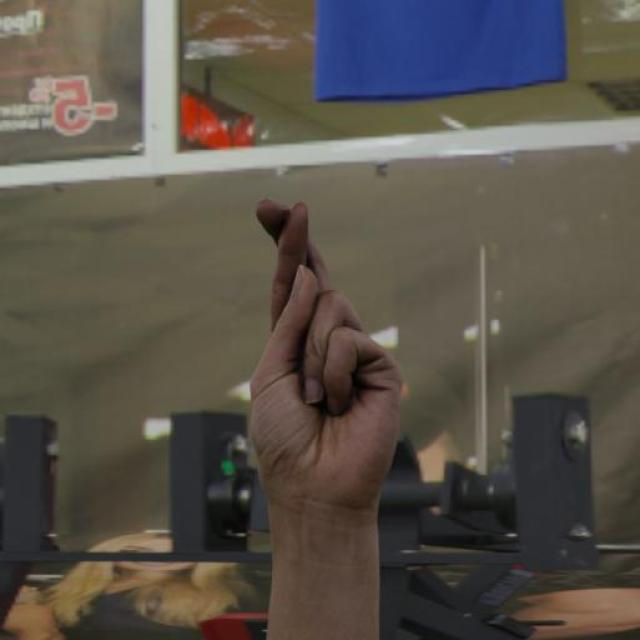R: (247, 197, 405, 514)
